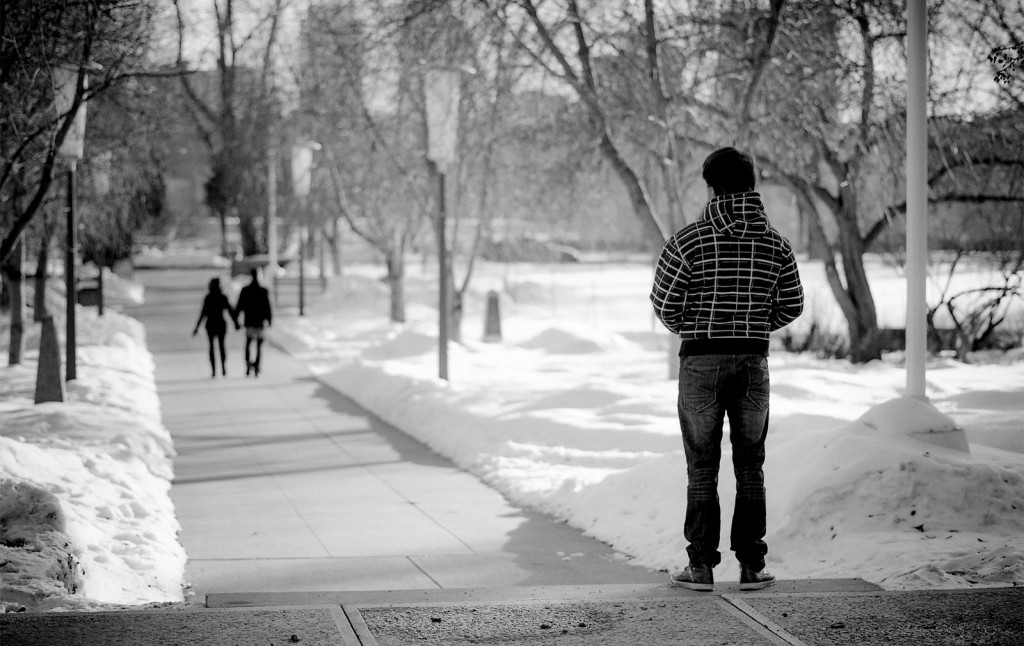Person: (611, 123, 808, 621), (173, 264, 236, 389), (236, 260, 276, 389)
